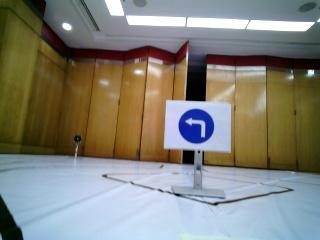left: (169, 100, 232, 154)
